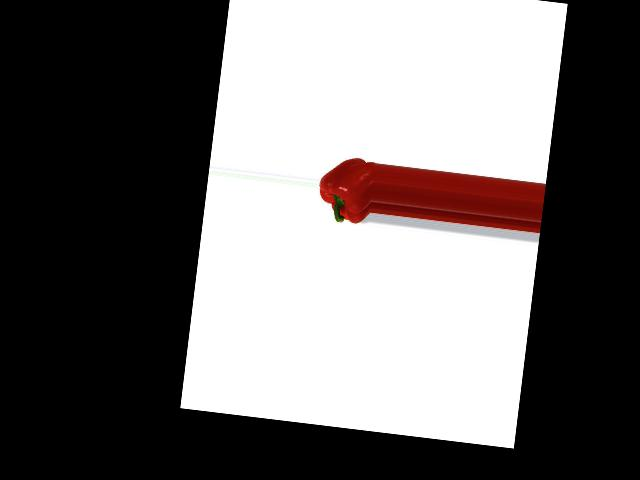bell_pepper: (314, 146, 377, 234)
